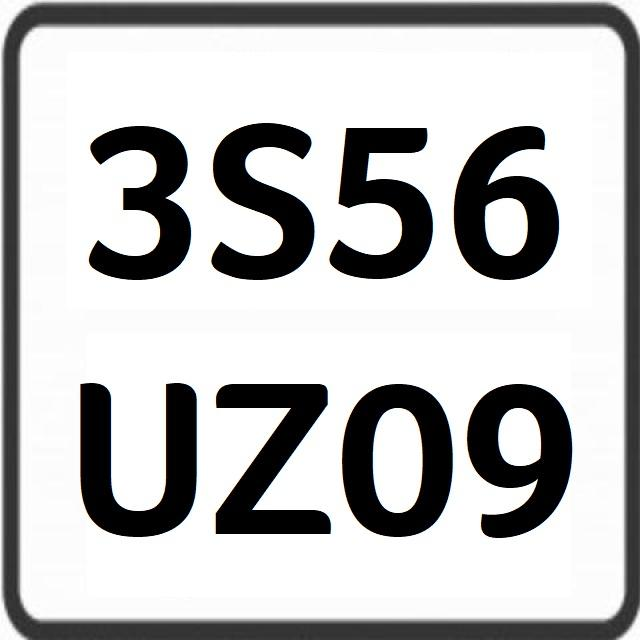0: (339, 379, 458, 543)
3: (85, 119, 197, 286)
5: (324, 114, 433, 288)
6: (448, 121, 566, 285)
9: (461, 378, 575, 542)
C: (207, 120, 326, 279)
U: (72, 376, 200, 542)
Z: (213, 378, 335, 538)
